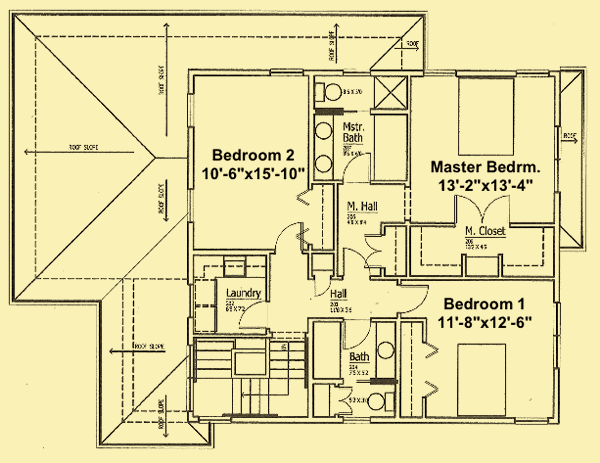door: (453, 190, 513, 227), (339, 151, 372, 186), (235, 298, 269, 331), (340, 246, 372, 280), (396, 281, 430, 313), (273, 221, 305, 254), (342, 318, 373, 352), (334, 386, 356, 415), (311, 276, 332, 297)
large_sink: (312, 80, 343, 106), (362, 389, 397, 412)
small_sink: (313, 113, 334, 181), (374, 322, 395, 378)
stairs: (193, 333, 307, 419)
window: (549, 296, 564, 371), (268, 65, 304, 80), (183, 186, 197, 224), (513, 414, 551, 427), (183, 92, 196, 129), (186, 280, 198, 317), (421, 69, 457, 81), (513, 69, 555, 78)
